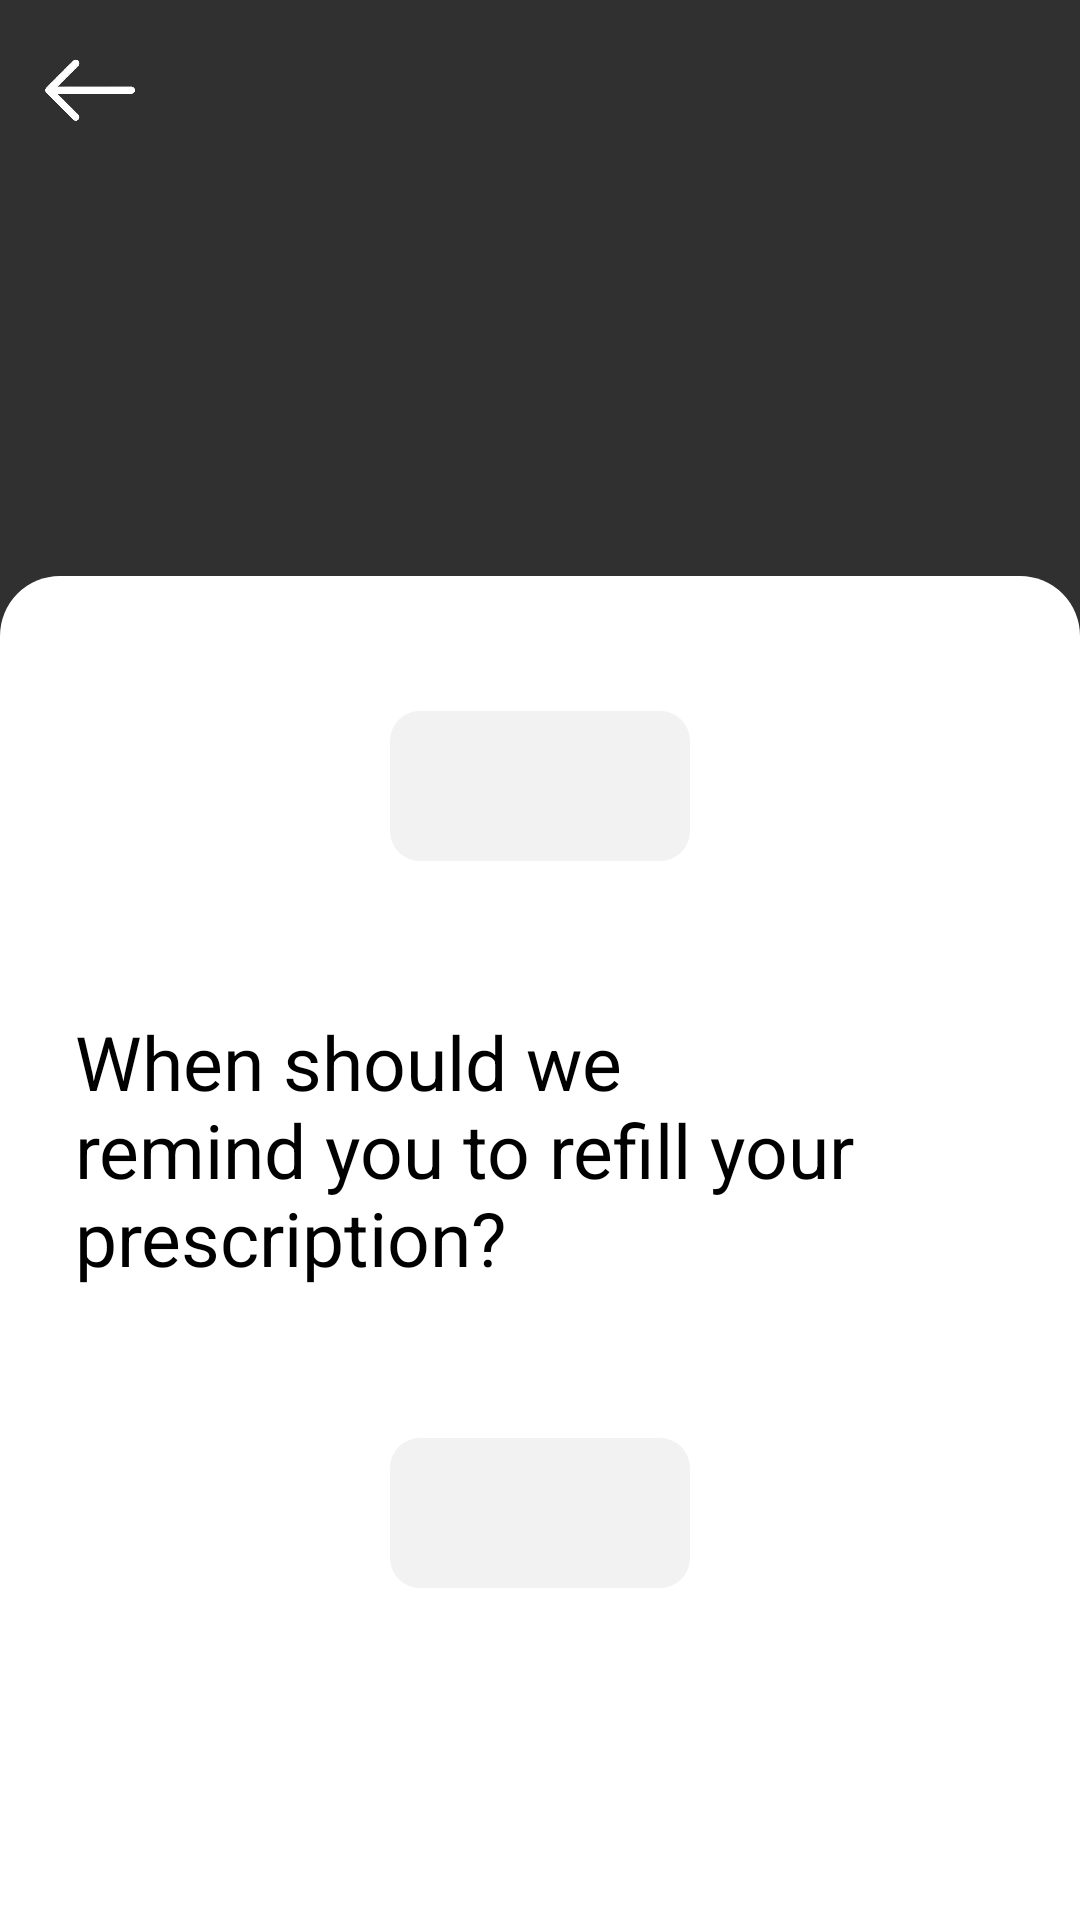

Where to tap for icons on this 1080×1920 app screen, as [x,y]:
back: [90,90]
